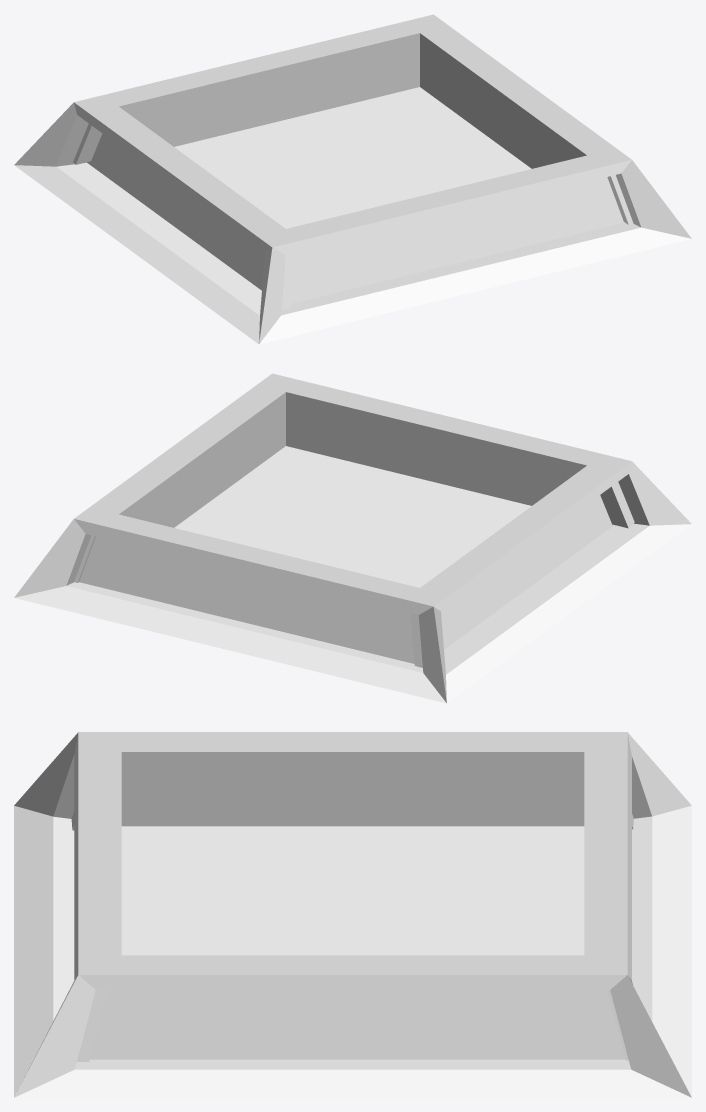
File: Container1.fbx
3 renders of one model, top to bottom at view 1: azimuth 30°, elevation 25°; view 2: azimuth 150°, elevation 25°; view 3: azimuth 270°, elevation 25°, orthographic. The views are drawn at different scales.
Visible parts, largest first — view 1: Container1; view 2: Container1; view 3: Container1.
Boxes of the visible parts, x1=… form: Container1: x1=14, y1=14, x2=691, y2=344; Container1: x1=14, y1=373, x2=691, y2=703; Container1: x1=14, y1=732, x2=691, y2=1097.
Bounding box in the file's own units: 54.75 × 8.58 × 53.68.
